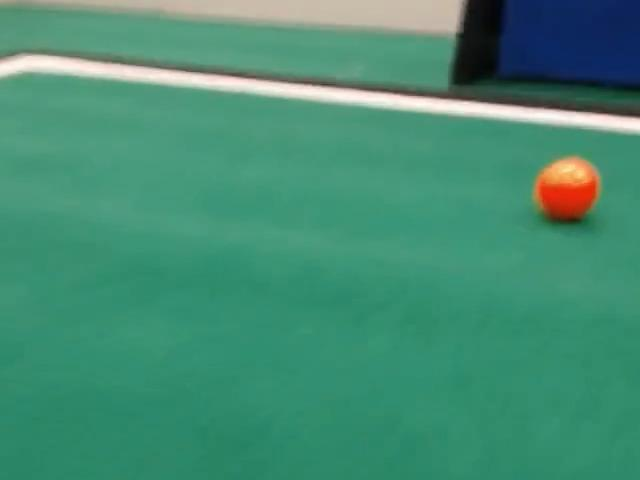Ball: (533, 157, 600, 221)
